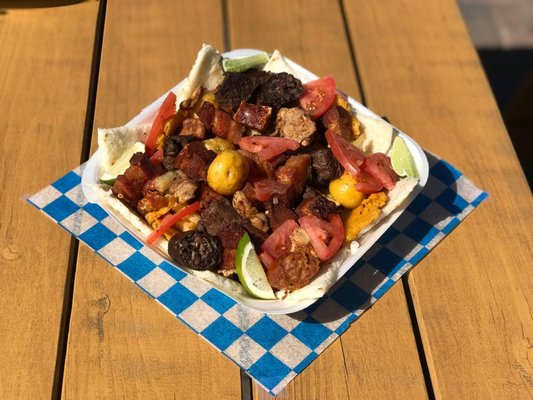curry: (6, 1, 533, 400)
